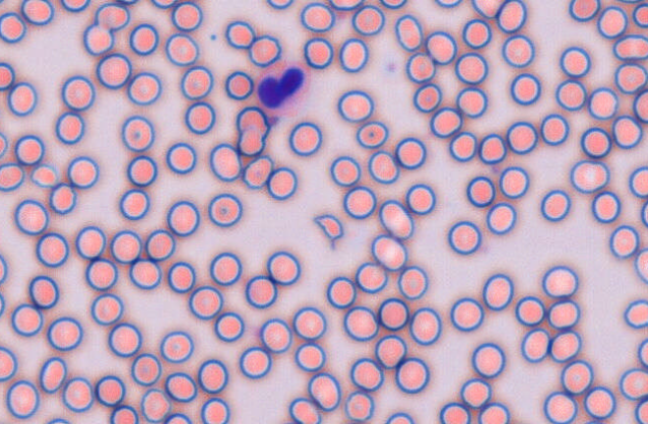GRAN: (255, 62, 312, 119)
PLT: (268, 114, 279, 126), (210, 33, 219, 42)
RBC: (378, 199, 413, 239), (569, 159, 610, 193), (370, 234, 407, 270), (5, 379, 39, 418), (307, 372, 341, 411), (96, 52, 131, 89), (14, 198, 49, 235), (46, 316, 83, 351), (343, 305, 378, 341), (121, 114, 154, 152), (209, 142, 241, 181), (409, 306, 441, 345), (107, 322, 142, 357), (207, 192, 242, 227), (471, 342, 505, 378), (395, 357, 429, 393), (166, 200, 200, 236), (61, 75, 95, 111), (541, 265, 578, 298), (337, 89, 374, 122), (449, 297, 484, 331), (164, 32, 199, 66), (188, 285, 223, 319), (288, 121, 322, 156), (35, 232, 69, 267), (266, 250, 300, 285), (61, 376, 94, 412), (259, 317, 292, 353), (349, 357, 383, 391), (342, 185, 376, 219), (127, 71, 161, 105), (292, 306, 326, 340), (447, 220, 481, 254), (560, 359, 593, 394), (180, 65, 213, 100), (482, 273, 513, 310), (583, 385, 616, 419), (109, 229, 142, 263), (159, 330, 193, 363), (501, 34, 535, 67), (209, 251, 242, 285), (248, 34, 281, 67), (10, 303, 43, 336), (244, 275, 277, 308), (235, 105, 269, 137), (543, 391, 577, 423), (367, 150, 399, 184), (374, 334, 406, 368), (425, 30, 457, 64), (454, 52, 488, 84), (506, 120, 538, 154), (242, 154, 273, 189), (197, 358, 228, 393), (394, 14, 423, 51), (354, 261, 387, 293), (85, 258, 118, 290), (429, 106, 462, 138), (614, 62, 647, 94), (596, 5, 628, 38), (394, 136, 426, 169), (90, 293, 123, 325), (238, 346, 271, 378), (67, 155, 99, 188), (140, 388, 171, 422), (266, 166, 297, 200), (397, 265, 428, 299), (611, 114, 642, 148), (587, 86, 618, 120), (75, 225, 106, 259), (520, 327, 550, 362), (300, 2, 335, 32), (7, 81, 37, 116), (338, 37, 368, 72), (94, 2, 130, 31), (39, 356, 67, 393), (82, 23, 114, 55), (549, 330, 581, 362), (455, 86, 487, 118), (559, 46, 591, 78), (144, 228, 175, 261), (164, 371, 197, 402), (377, 297, 408, 330), (351, 4, 384, 35), (130, 353, 161, 386), (184, 101, 215, 134), (28, 275, 59, 308), (510, 72, 541, 105), (498, 165, 529, 198), (165, 141, 196, 174), (609, 224, 639, 258), (329, 155, 361, 186), (119, 188, 150, 220), (485, 202, 516, 234), (580, 126, 611, 158), (540, 189, 571, 221), (555, 79, 587, 110), (547, 299, 580, 329), (496, 0, 526, 33), (128, 259, 161, 289), (612, 33, 647, 61), (514, 295, 545, 326), (94, 375, 125, 406), (126, 155, 157, 186), (459, 378, 491, 408), (128, 23, 158, 55), (326, 276, 356, 308), (591, 190, 620, 223), (55, 111, 84, 144), (405, 52, 435, 83), (344, 390, 374, 421), (171, 1, 202, 31), (405, 183, 435, 214), (214, 311, 244, 342), (303, 37, 333, 68), (14, 134, 44, 165), (466, 175, 495, 207), (540, 113, 569, 145), (619, 367, 647, 400), (355, 120, 388, 148), (224, 70, 254, 100), (461, 18, 491, 48), (294, 342, 325, 371), (49, 182, 77, 214), (167, 261, 195, 293), (412, 83, 442, 112), (478, 133, 506, 164), (288, 397, 321, 423), (20, 0, 54, 25), (225, 20, 255, 48), (449, 131, 477, 161), (0, 11, 26, 43), (237, 126, 264, 156), (200, 397, 229, 423), (623, 298, 647, 329), (0, 162, 24, 191), (477, 402, 510, 423), (568, 0, 600, 21), (439, 402, 470, 423), (628, 165, 647, 198), (0, 345, 17, 381), (471, 0, 504, 18), (110, 404, 138, 423), (632, 88, 647, 123), (634, 247, 647, 283), (0, 61, 15, 90), (632, 2, 647, 28), (384, 411, 414, 423), (60, 0, 90, 12), (328, 0, 363, 10), (637, 337, 648, 368), (634, 398, 647, 423), (163, 412, 192, 423), (265, 0, 293, 9), (379, 0, 407, 9), (434, 0, 462, 8), (0, 253, 7, 284), (150, 0, 177, 8), (615, 0, 643, 4), (115, 0, 139, 4)
Schistocyte: (314, 213, 343, 242), (31, 164, 59, 187)
